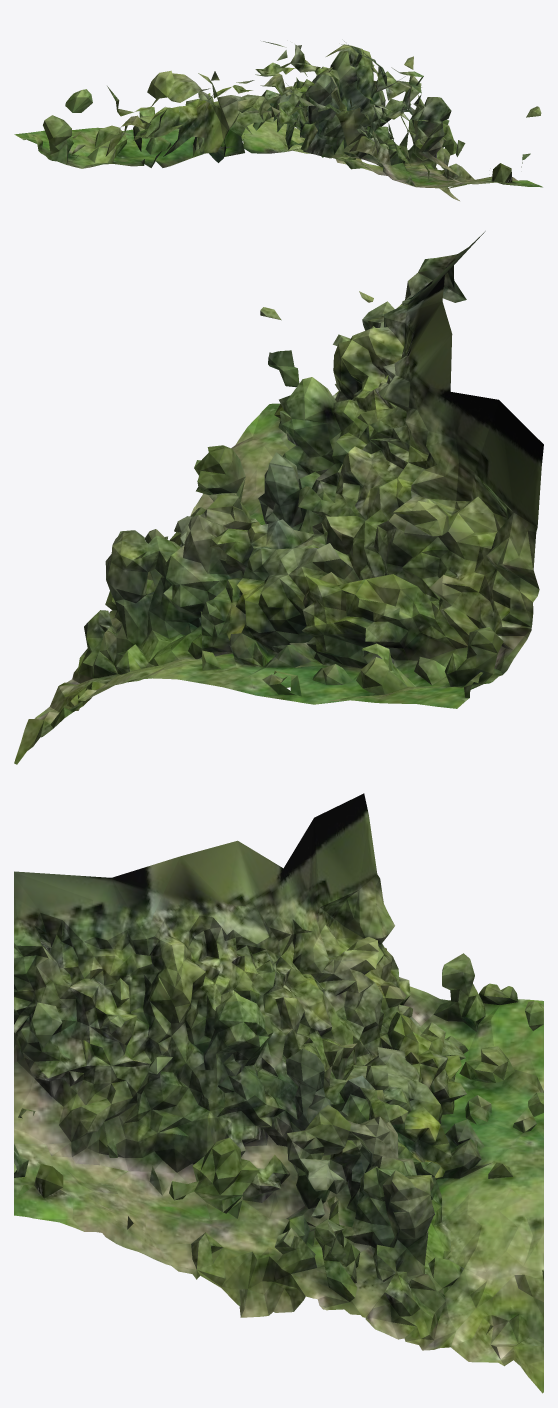
3 views of the same model, one above another, from view 1: azimuth 30°, elevation 25°; view 2: azimuth 150°, elevation 25°; view 3: azimuth 270°, elevation 25° (orthographic). The views are drawn at different scales.
Size of the model in its own units: 104 by 89.74 by 104.
Materials: 5 (5 with a texture image).
